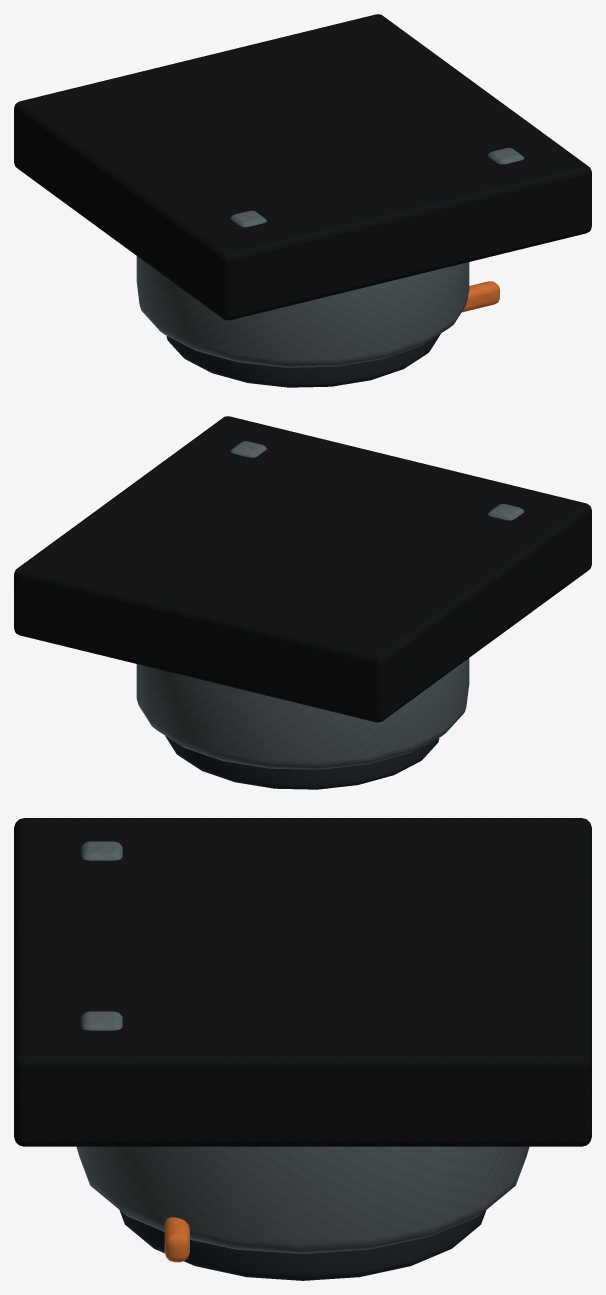
File: CeilingSpeaker.glb
3 views of the same model, one above another, from view 1: azimuth 30°, elevation 25°; view 2: azimuth 150°, elevation 25°; view 3: azimuth 270°, elevation 25° (orthographic). The views are drawn at different scales.
Visible parts, largest first — view 1: CeilingSpeaker_Mesh; view 2: CeilingSpeaker_Mesh; view 3: CeilingSpeaker_Mesh.
Part boxes in pixels (bbox=[...]): CeilingSpeaker_Mesh: bbox=[14, 14, 591, 387]; CeilingSpeaker_Mesh: bbox=[14, 416, 591, 789]; CeilingSpeaker_Mesh: bbox=[14, 818, 591, 1280].
Bounding box in the file's own units: 0.46 × 0.2665 × 0.46.
5 materials, 5 textured.
